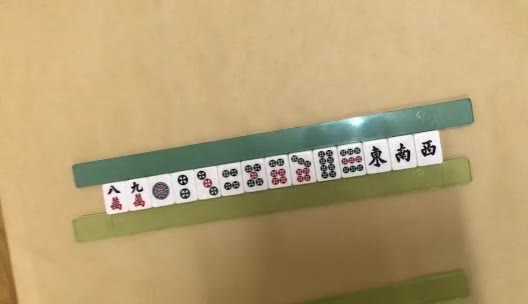1p: (153, 183, 170, 200)
1z: (368, 145, 386, 168)
2p: (178, 174, 191, 199)
2z: (395, 141, 412, 163)
3p: (196, 170, 218, 197)
3z: (420, 140, 438, 156)
4p: (222, 169, 240, 190)
5p: (244, 163, 264, 187)
6p: (268, 157, 288, 186)
7p: (291, 153, 311, 184)
8m: (106, 186, 122, 210)
8p: (319, 149, 336, 179)
9m: (130, 181, 145, 207)
9p: (340, 148, 363, 175)
